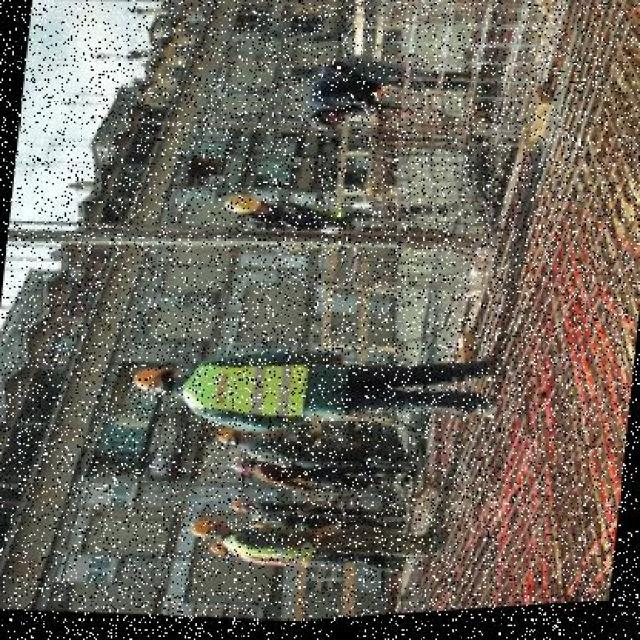helmet: (128, 357, 168, 393), (190, 517, 219, 541)
vest: (185, 357, 308, 422)
